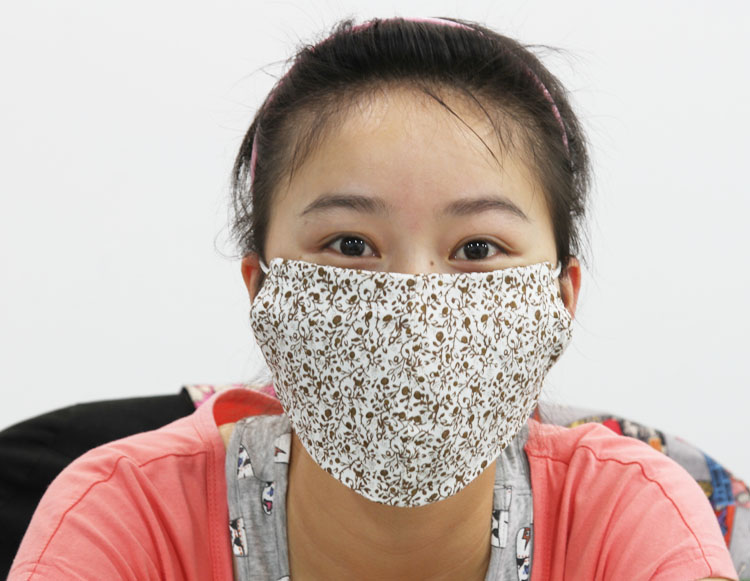face_mask: (257, 104, 562, 506)
